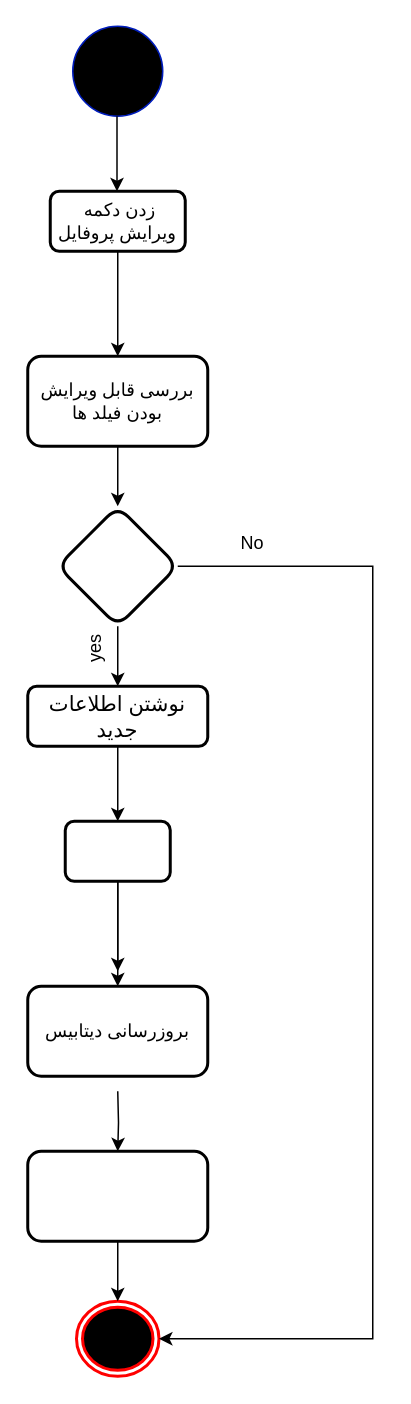
Some shapes in this 411 by 1404 pixel diagram are drawn without their labels. Each missing label, with the centre of its shape:
تایید: the point at 117,850
نمایش صفحه پروفایل با اطلاعات جدید: the point at 117,1195
